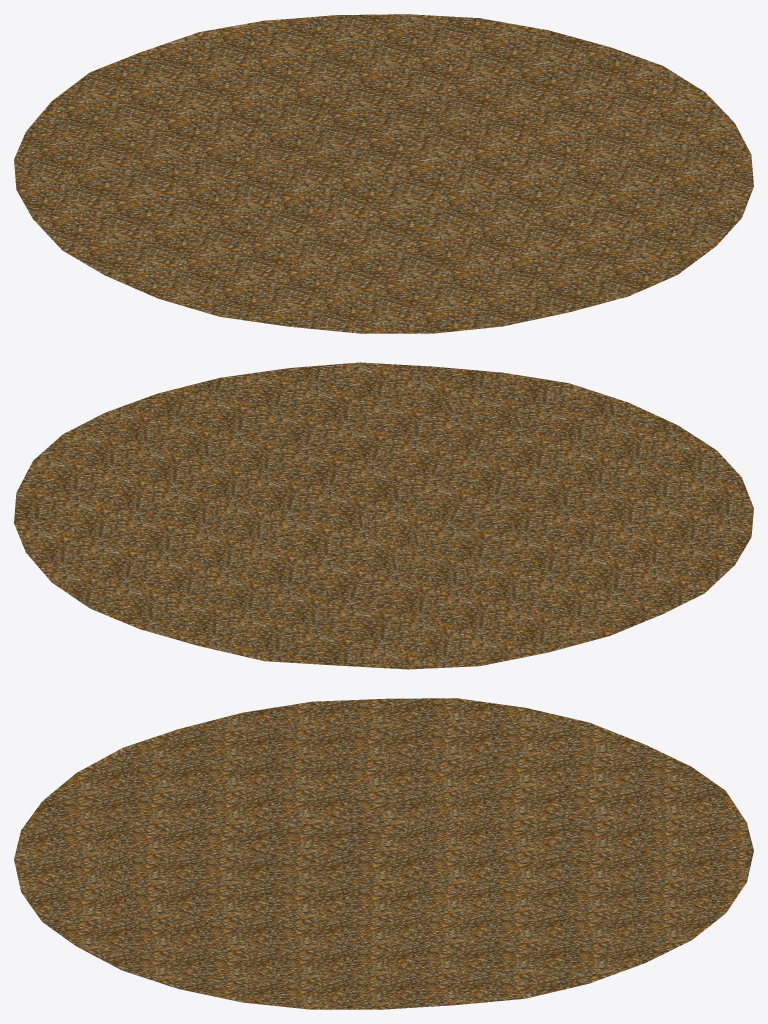
Rendered from suelo.glb.
The picture shows the model from 3 angles, top to bottom: view 1: azimuth 30°, elevation 25°; view 2: azimuth 150°, elevation 25°; view 3: azimuth 270°, elevation 25°; orthographic projection.
Visible parts, largest first — view 1: suelo; view 2: suelo; view 3: suelo.
Part boxes in pixels (box(x1,y1,x2,y2)): suelo: box(14, 14, 753, 333); suelo: box(14, 362, 753, 669); suelo: box(14, 698, 753, 1009).
Size of the model in its own units: 79.77 by 1.38 by 79.77.
Materials: 1 (1 with a texture image).
